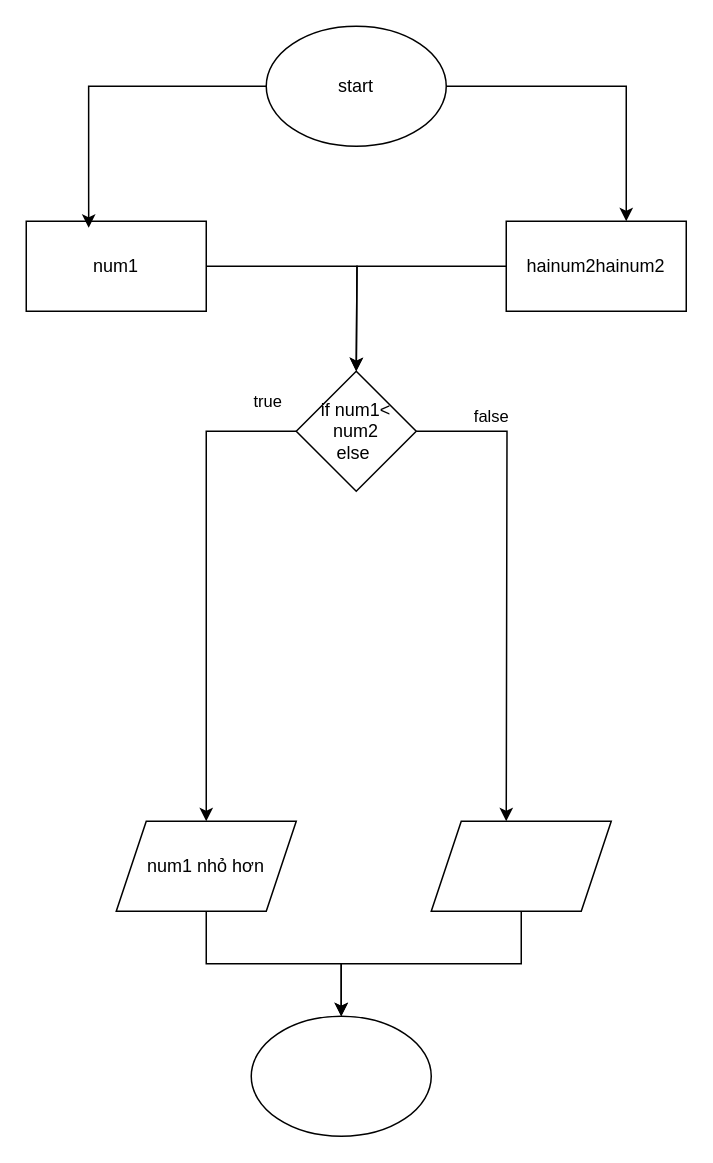
Some shapes in this 713 by 1163 pixel diagram are drawn without their labels. Here are the shapes that lost their labels. From the top down, the box of each, then its label:
(430, 820, 611, 911): num2 nhỏ hơn
(250, 1015, 431, 1136): end
